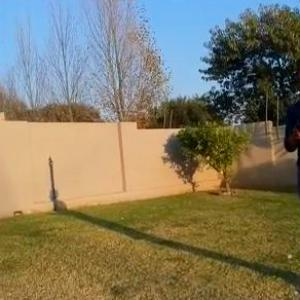follow: (277, 45, 300, 292)
